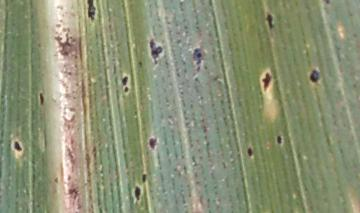tarspot: (148, 37, 164, 65), (261, 72, 273, 91), (192, 48, 205, 63), (87, 1, 96, 22), (310, 69, 321, 83), (265, 11, 274, 28), (148, 137, 158, 151), (134, 186, 143, 201), (12, 140, 23, 152), (245, 145, 254, 157), (120, 76, 129, 86), (38, 91, 44, 105), (276, 135, 284, 145), (140, 172, 147, 183), (138, 58, 144, 67), (53, 176, 60, 183), (323, 1, 331, 6), (124, 87, 129, 92)
